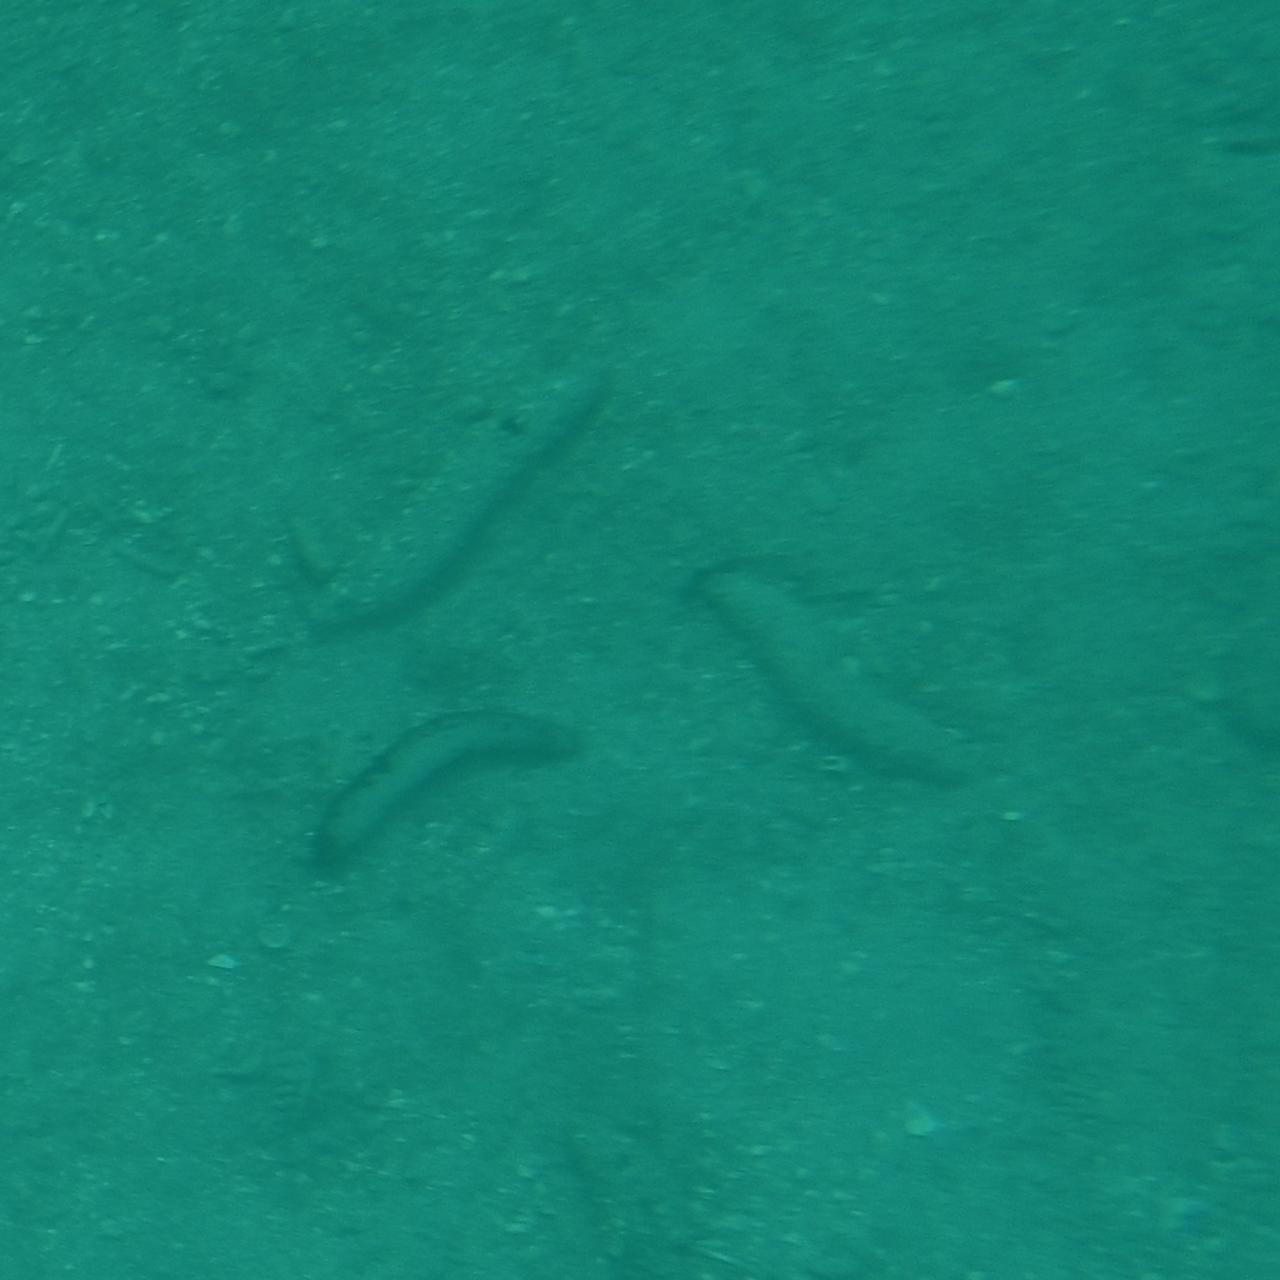Holothuria tubulosa: (277, 345, 631, 636), (676, 553, 978, 798), (308, 696, 600, 884)
